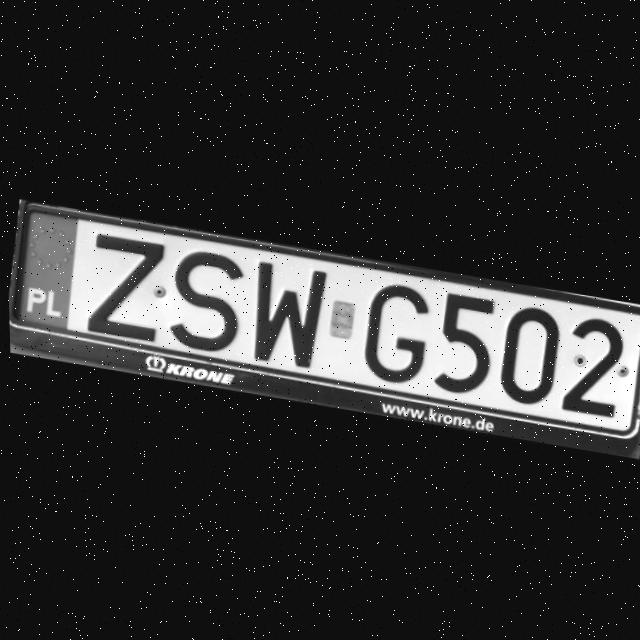license-plates: (12, 210, 640, 435)
